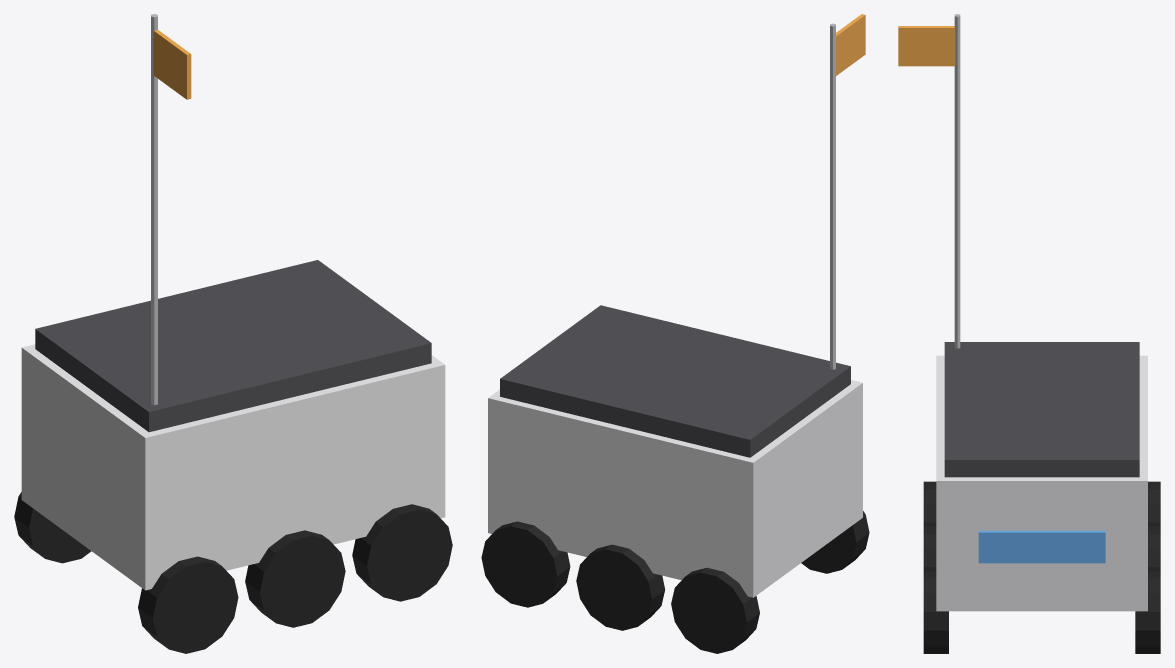
File: SM_Prop_RobotDelivery.glb
3 renders of one model, left to right at view 1: azimuth 30°, elevation 25°; view 2: azimuth 150°, elevation 25°; view 3: azimuth 270°, elevation 25°, orthographic. The views are drawn at different scales.
Parts seen in each view (by area): view 1: SM_Prop_RobotDelivery; view 2: SM_Prop_RobotDelivery; view 3: SM_Prop_RobotDelivery.
Boxes of the visible parts, x1,y1,x2,y2 form: SM_Prop_RobotDelivery: (14, 14, 452, 653); SM_Prop_RobotDelivery: (481, 14, 869, 653); SM_Prop_RobotDelivery: (898, 14, 1160, 653).
Size of the model in its own units: 0.71 by 1.4 by 0.62.
